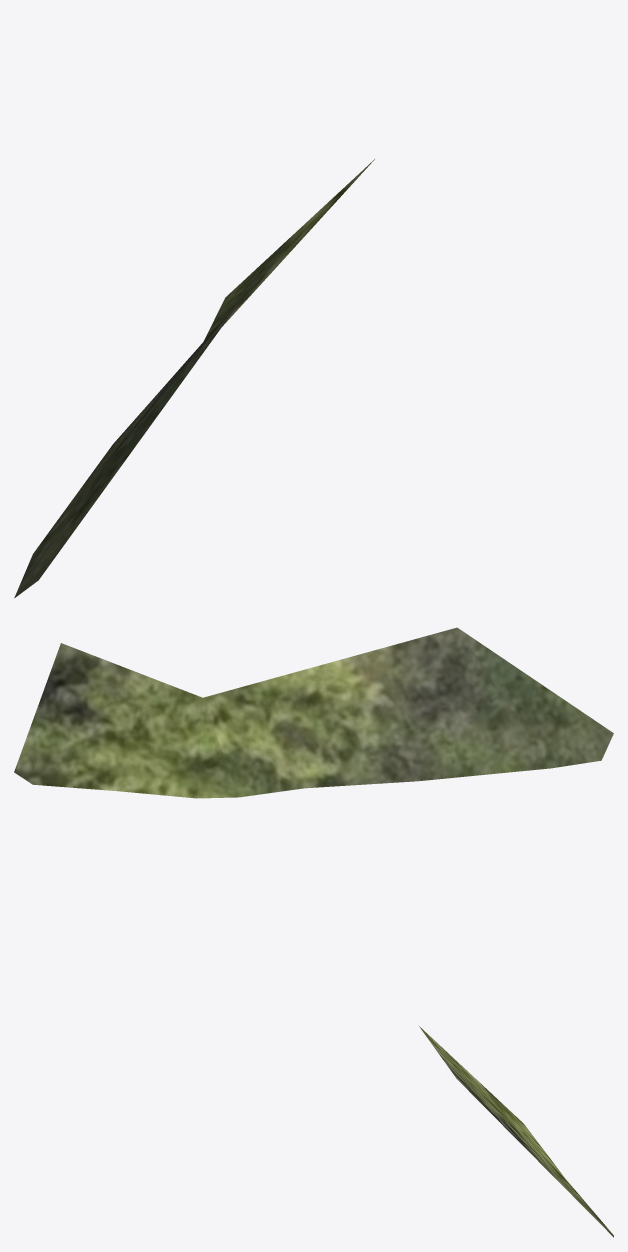
3 views of the same model, one above another, from view 1: azimuth 30°, elevation 25°; view 2: azimuth 150°, elevation 25°; view 3: azimuth 270°, elevation 25° (orthographic). The views are drawn at different scales.
Size of the model in its own units: 5.9 by 1.49 by 4.35.
Materials: 1 (1 with a texture image).
